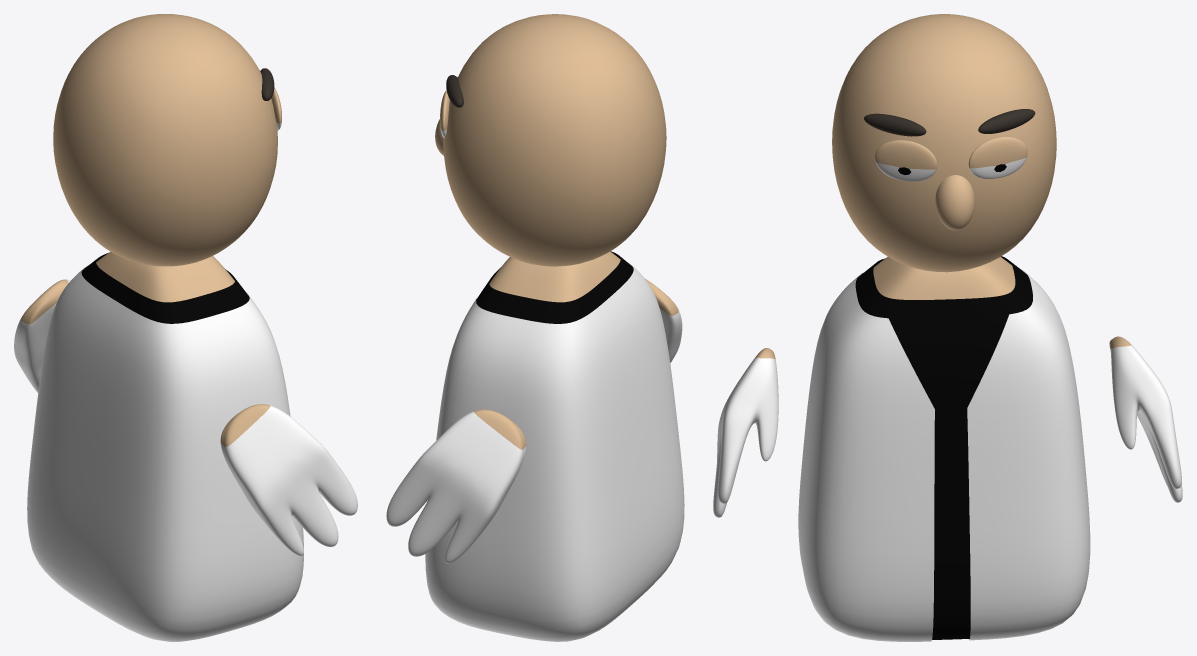
The model's file is CHAR.fbx.
3 renders of one model, left to right at view 1: azimuth 30°, elevation 25°; view 2: azimuth 150°, elevation 25°; view 3: azimuth 270°, elevation 25°, orthographic. The views are drawn at different scales.
Parts seen in each view (by area): view 1: CHAR; view 2: CHAR; view 3: CHAR.
Part boxes in pixels (x1,y1,x2,y2): CHAR: (14, 14, 357, 641); CHAR: (386, 14, 684, 641); CHAR: (713, 14, 1182, 641).
Bounding box in the file's own units: 115 × 308 × 221.
